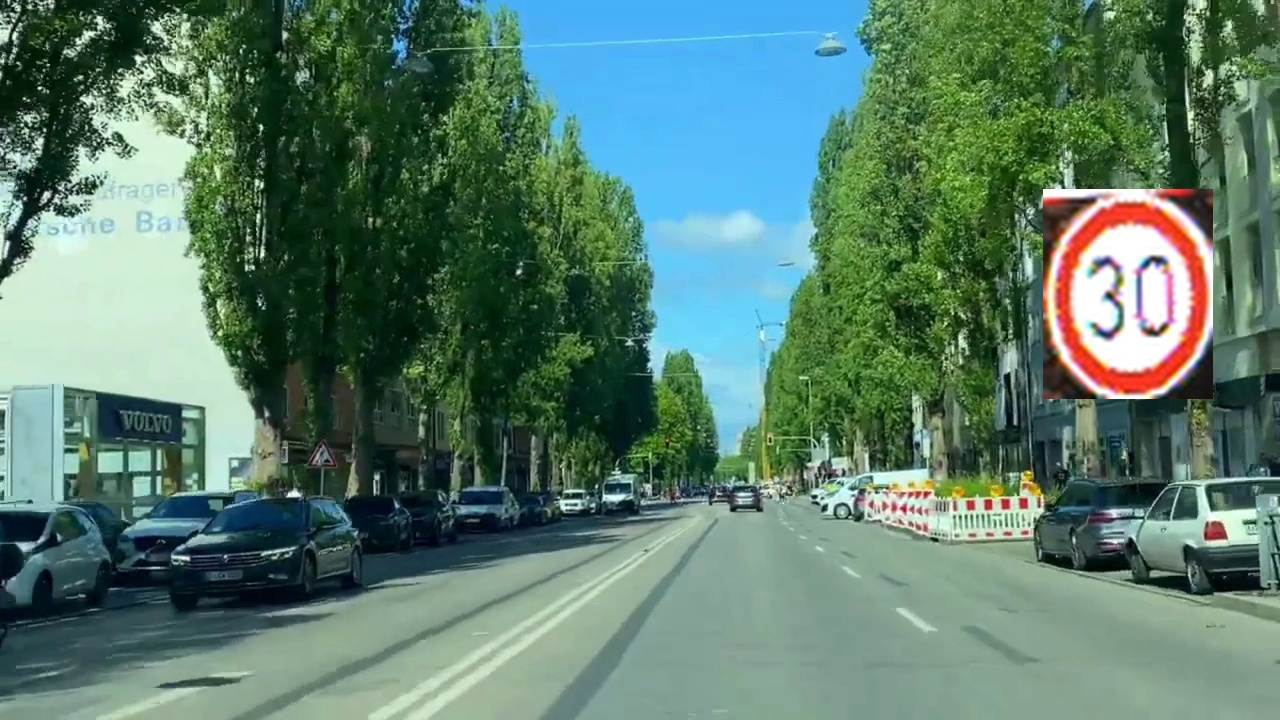Speed 30: (1043, 189, 1213, 399)
